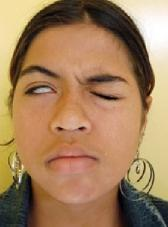normalMouth: (43, 142, 107, 177)
strokeEyeSevere: (22, 66, 130, 106)
